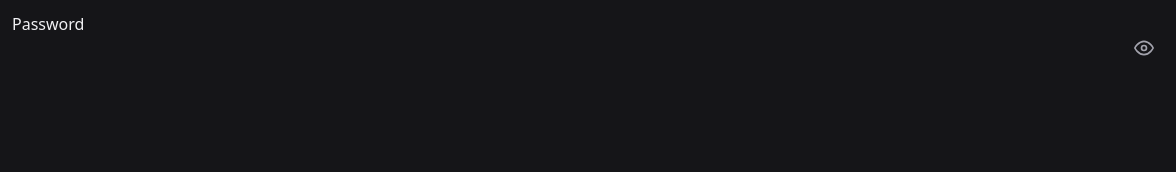
Test case: PasswordInput › hides the password until the eye is pressed, then hides it again
This screenshot has width=1176, height=172.
Type "hunter22" into the password field labelled "Password" at (588, 48), box 12,36 -> 1164,60
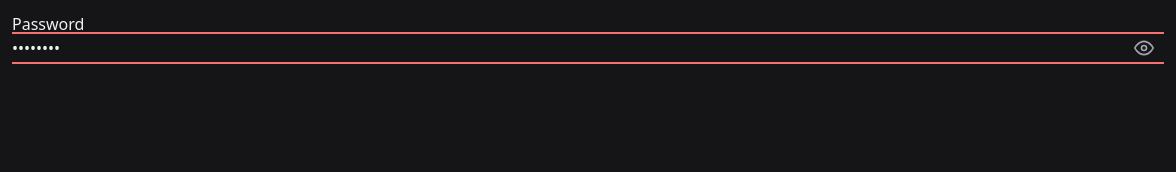
Click the button named "Show password" at (1144, 48), box 1124,36 -> 1164,60
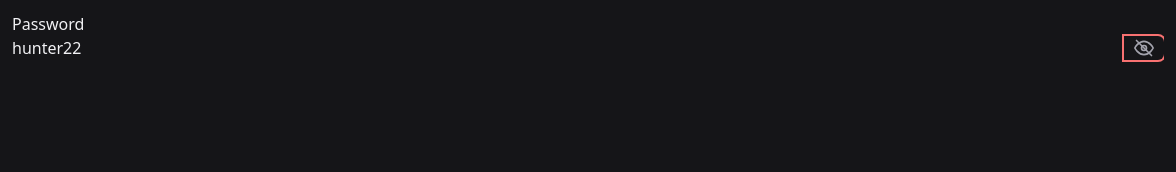
Now the field labelled "Password" shows its text, box 12,36 -> 1164,60
Click the button named "Hide password" at (1144, 48), box 1124,36 -> 1164,60
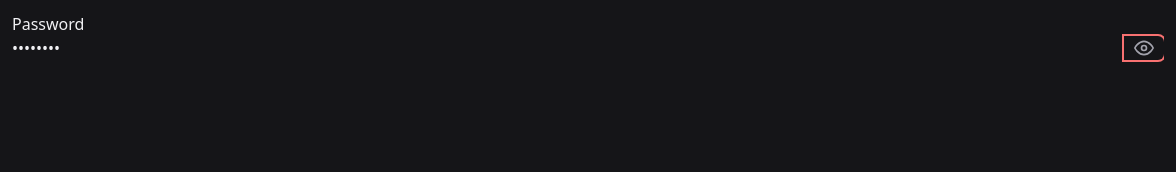
Now the password field labelled "Password" hides its text, box 12,36 -> 1164,60
